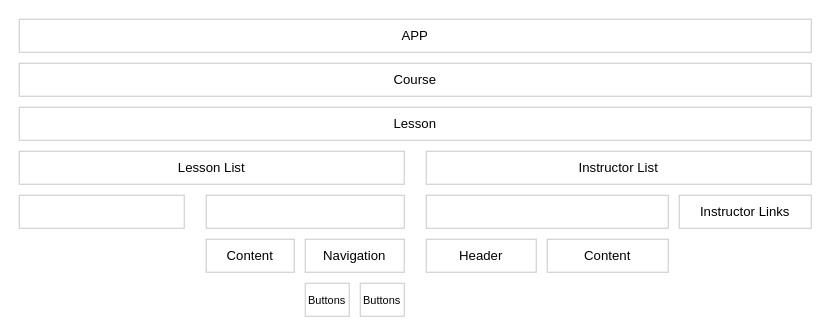
This 831x336 diagram has some shape labels left out. The shapes that lost their labels are listed below. From the top down, each one's centre as x and y in pixels, then its label:
At [101,211]: "Lesson Header".
At [304,211]: "Lesson Item".
At [546,211]: "Instructor Item".
